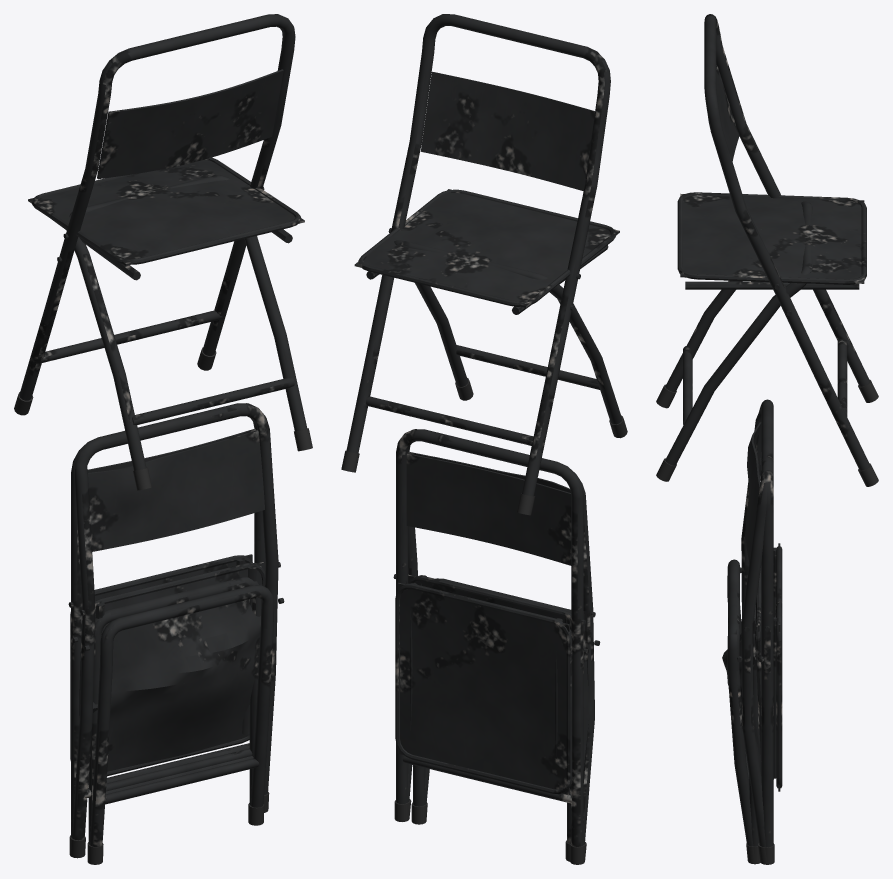
Rendered from steel_chair.glb.
3 renders of one model, left to right at view 1: azimuth 30°, elevation 25°; view 2: azimuth 150°, elevation 25°; view 3: azimuth 270°, elevation 25°, orthographic. The views are drawn at different scales.
Visible parts, largest first — view 1: SteelChair_Bent_panels, SteelChair_Open_panels, SteelChair_Open_frame, SteelChair_Bent_frame, SteelChair_Folded_frame, SteelChair_Folded_panels, SteelChair_Open_feet, SteelChair_Bent_feet; view 2: SteelChair_Folded_panels, SteelChair_Open_panels, SteelChair_Open_frame, SteelChair_Folded_frame, SteelChair_Bent_frame, SteelChair_Bent_panels, SteelChair_Open_feet, SteelChair_Folded_feet; view 3: SteelChair_Open_frame, SteelChair_Open_panels, SteelChair_Bent_frame, SteelChair_Folded_frame, SteelChair_Bent_panels, SteelChair_Folded_panels, SteelChair_Open_feet.
Part boxes in pixels (left/top/right/bottom): SteelChair_Bent_panels: left=79, top=430, right=265, bottom=776; SteelChair_Open_panels: left=28, top=69, right=304, bottom=265; SteelChair_Open_frame: left=19, top=14, right=307, bottom=470; SteelChair_Bent_frame: left=72, top=404, right=284, bottom=846; SteelChair_Folded_frame: left=68, top=403, right=265, bottom=844; SteelChair_Folded_panels: left=70, top=428, right=255, bottom=760; SteelChair_Open_feet: left=14, top=347, right=312, bottom=490; SteelChair_Bent_feet: left=70, top=792, right=269, bottom=864; SteelChair_Folded_panels: left=395, top=453, right=572, bottom=795; SteelChair_Open_panels: left=354, top=71, right=619, bottom=307; SteelChair_Open_frame: left=346, top=14, right=622, bottom=496; SteelChair_Folded_frame: left=393, top=429, right=588, bottom=846; SteelChair_Bent_frame: left=407, top=446, right=600, bottom=845; SteelChair_Bent_panels: left=408, top=452, right=584, bottom=789; SteelChair_Open_feet: left=341, top=378, right=627, bottom=515; SteelChair_Folded_feet: left=394, top=800, right=583, bottom=864; SteelChair_Open_frame: left=665, top=14, right=869, bottom=470; SteelChair_Open_panels: left=677, top=66, right=866, bottom=284; SteelChair_Bent_frame: left=727, top=403, right=767, bottom=847; SteelChair_Folded_frame: left=749, top=399, right=776, bottom=847; SteelChair_Bent_panels: left=722, top=422, right=761, bottom=761; SteelChair_Folded_panels: left=760, top=452, right=782, bottom=791; SteelChair_Open_feet: left=656, top=380, right=878, bottom=486.
Size of the model in its own units: 0.4448 by 1.77 by 0.4606.
Materials: 3 (2 with a texture image).
